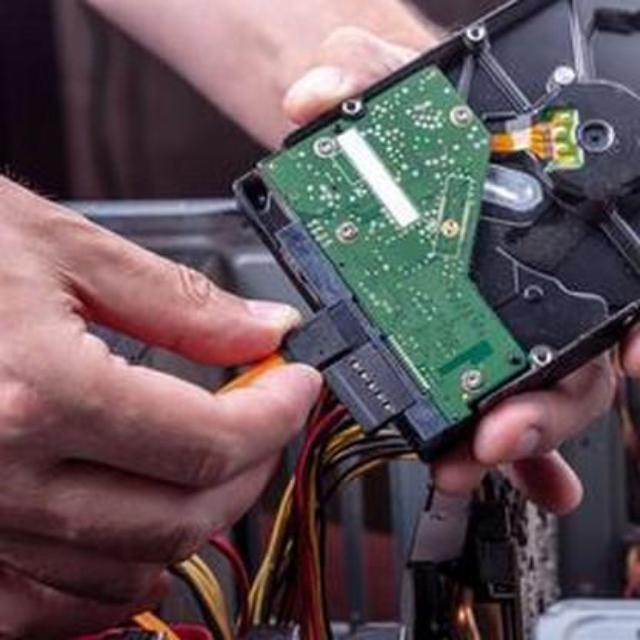DISK: (203, 0, 640, 455)
